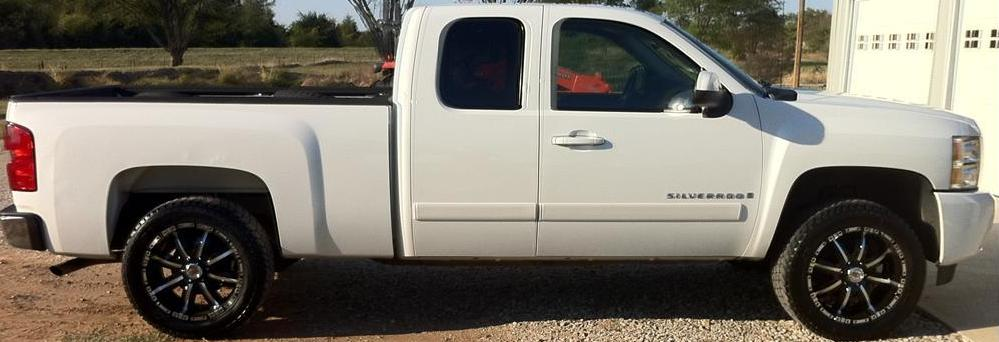backlight: (1, 111, 45, 194)
headlight: (940, 133, 986, 203)
side_glass: (420, 10, 731, 126)
